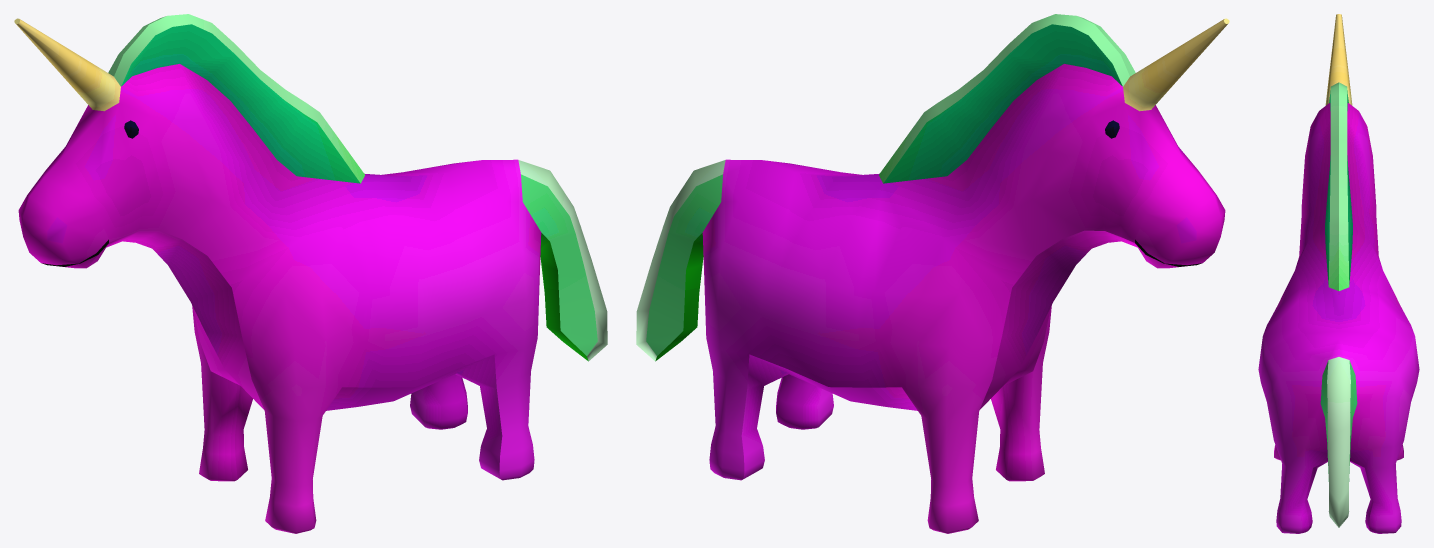
File: einhorn.fbx
3 renders of one model, left to right at view 1: azimuth 30°, elevation 25°; view 2: azimuth 150°, elevation 25°; view 3: azimuth 270°, elevation 25°, orthographic. The views are drawn at different scales.
Visible parts, largest first — view 1: Mball.007; view 2: Mball.007; view 3: Mball.007.
Part boxes in pixels (x1,y1,x2,y2): Mball.007: [14, 14, 607, 533]; Mball.007: [636, 14, 1229, 533]; Mball.007: [1258, 14, 1419, 533].
Size of the model in its own units: 20.55 by 17.89 by 7.15.
